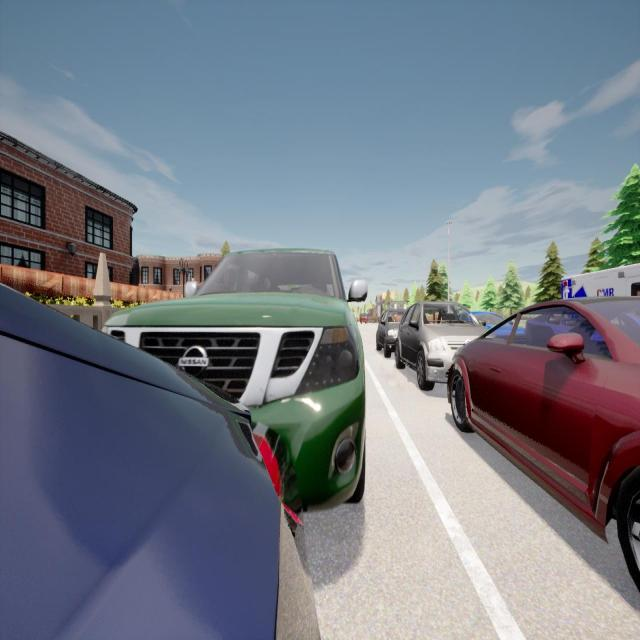Vehicle: (0, 281, 320, 640), (102, 249, 369, 508), (446, 295, 640, 594), (396, 302, 495, 390), (561, 262, 640, 299), (462, 311, 524, 336), (376, 308, 406, 358), (359, 312, 368, 325)
